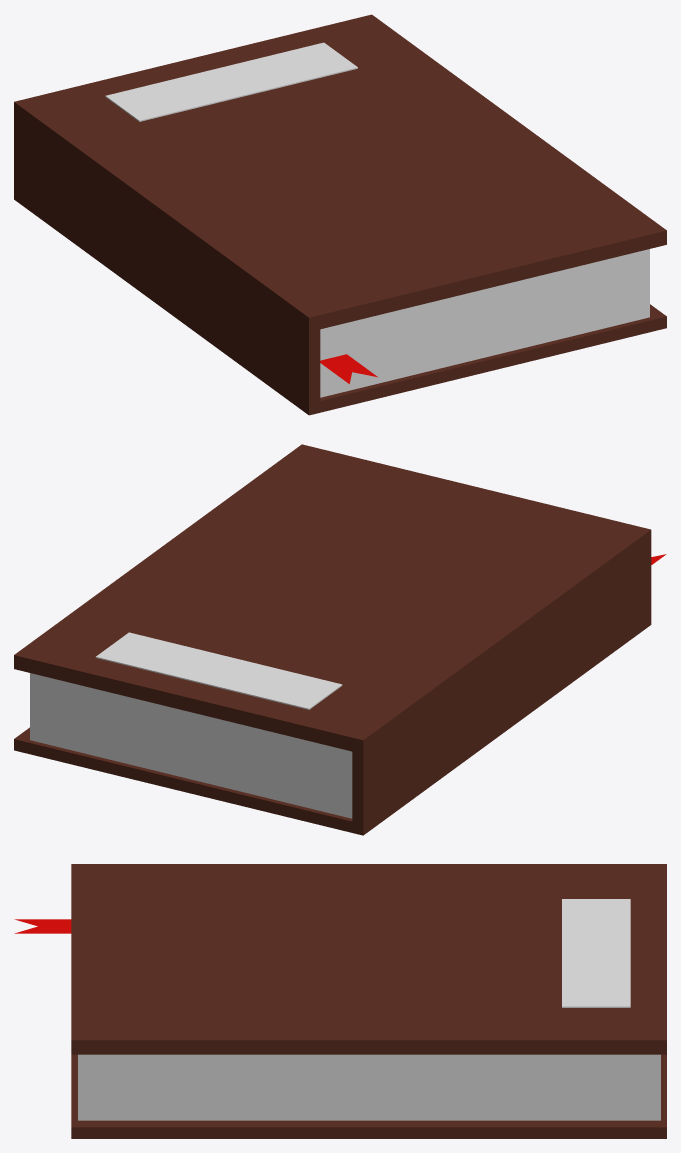
The model's file is Buku.fbx.
3 views of the same model, one above another, from view 1: azimuth 30°, elevation 25°; view 2: azimuth 150°, elevation 25°; view 3: azimuth 270°, elevation 25° (orthographic). The views are drawn at different scales.
Visible parts, largest first — view 1: Cover, NameTag, Plane; view 2: Cover, NameTag; view 3: Cover, NameTag, Plane.
Boxes of the visible parts, box(x1,y1,x2,y2) form: Cover: box(14, 14, 666, 415); NameTag: box(105, 42, 357, 121); Plane: box(320, 354, 377, 383); Cover: box(14, 444, 651, 835); NameTag: box(95, 632, 342, 709); Cover: box(71, 864, 666, 1138); NameTag: box(562, 899, 630, 1007); Plane: box(14, 919, 71, 933).
Size of the model in its own units: 147 by 38.79 by 230.
